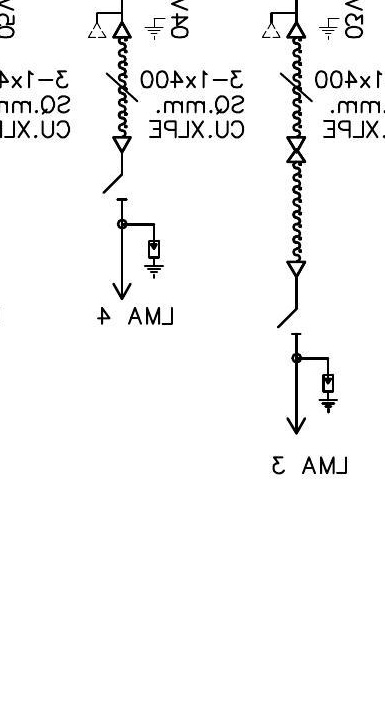22_ds_la_out: (276, 308, 339, 436), (102, 173, 165, 301)
terminator_single: (285, 259, 307, 278), (111, 135, 133, 153)
terminator_splicing_kits: (286, 135, 307, 163)
terminator_w_future: (260, 10, 307, 40), (86, 10, 133, 39)
